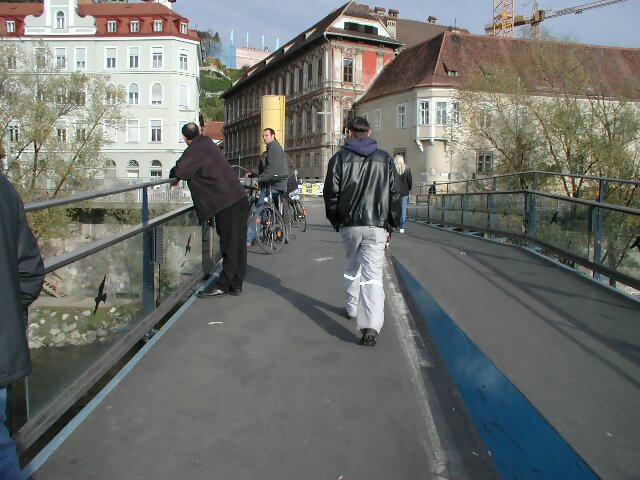person: (323, 110, 420, 361), (164, 117, 260, 301), (247, 123, 303, 212)
